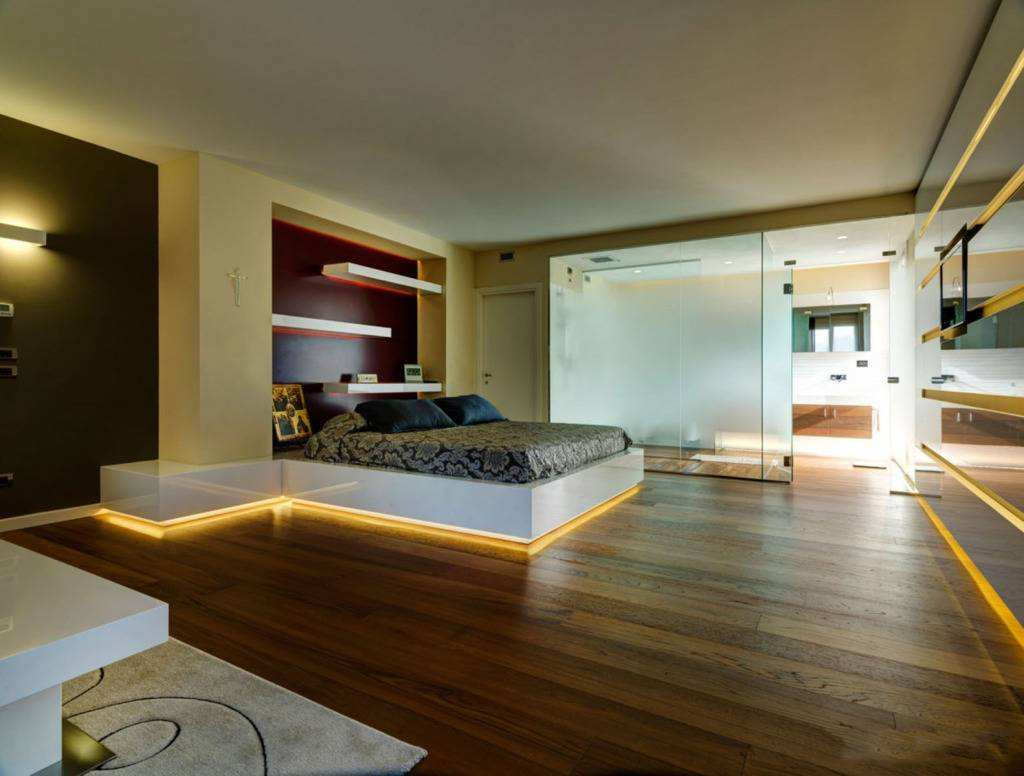床: (284, 415, 643, 553)
枕头: (298, 393, 501, 435)
灯: (0, 203, 64, 273)
